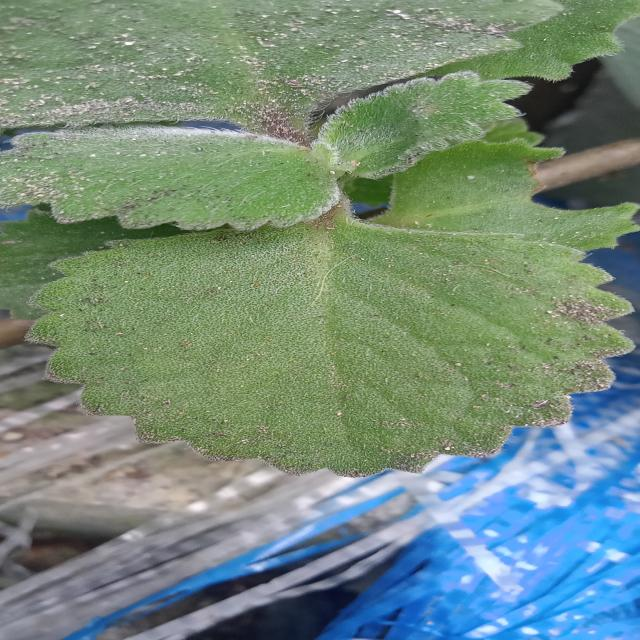Oregano: (21, 206, 640, 489)
